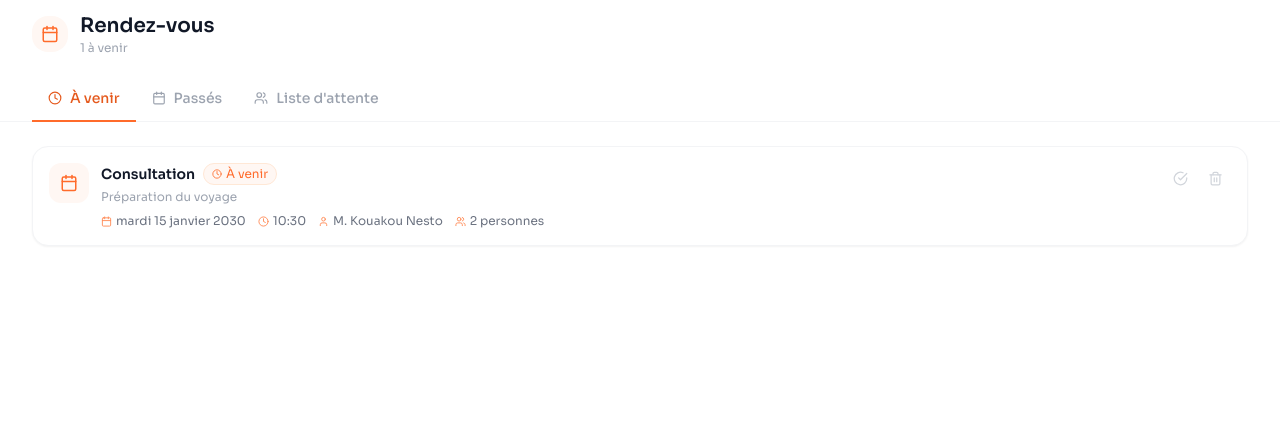
AppointmentsPage › supprime un rendez-vous après confirmation
Expected: the heading "Consultation" is shown, left=101, top=164, right=195, bottom=184
Click the button titled "Supprimer": (1216, 178) left=1200, top=163, right=1231, bottom=194
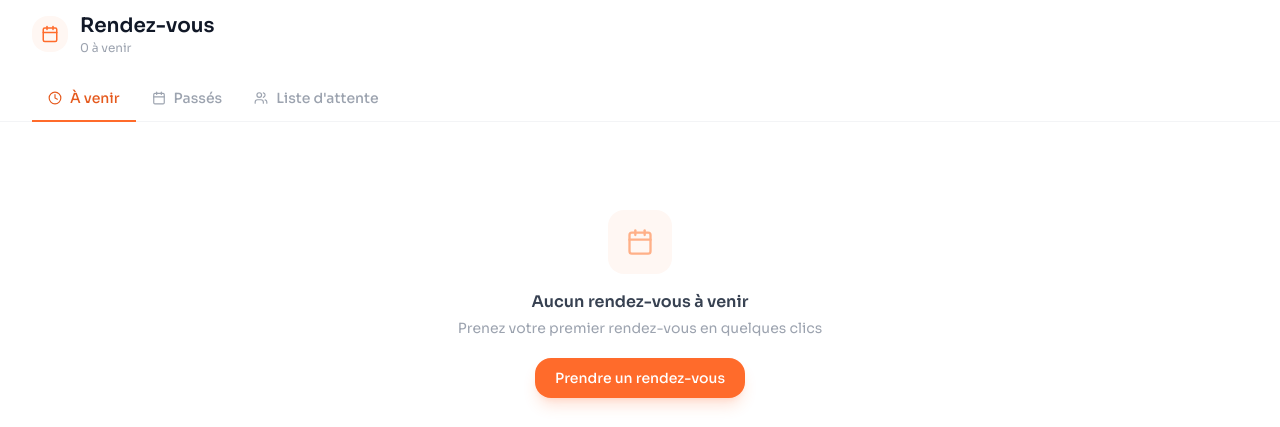
Expected: the heading "Consultation" is gone
